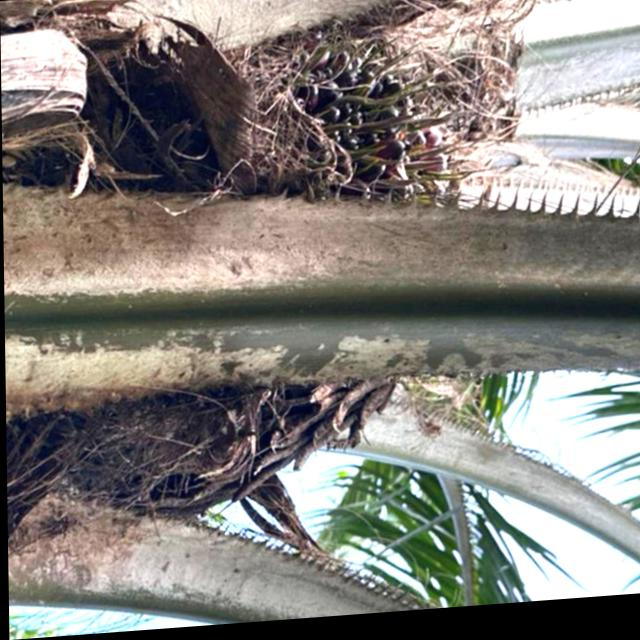ripe: (228, 40, 464, 249)
